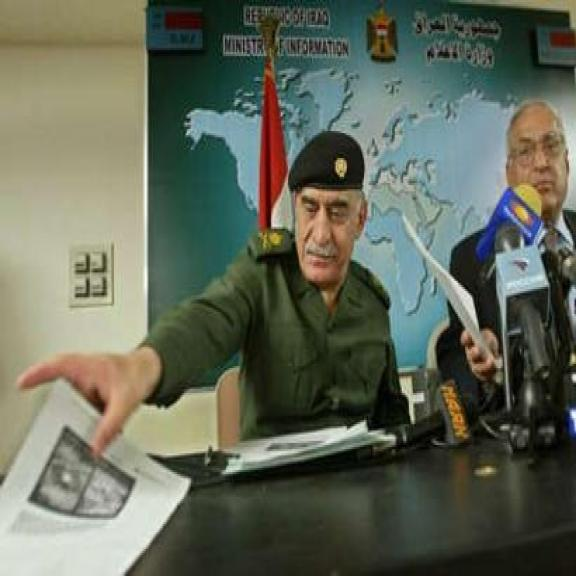face: (288, 180, 371, 284), (506, 106, 571, 222)
